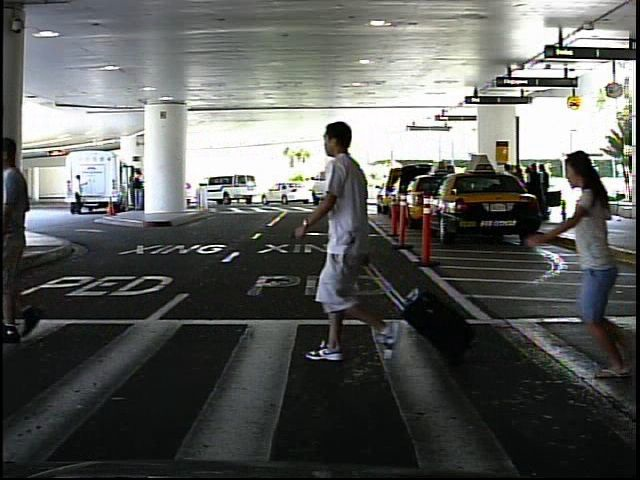person: (307, 109, 405, 375), (68, 172, 86, 217), (597, 172, 598, 218)
